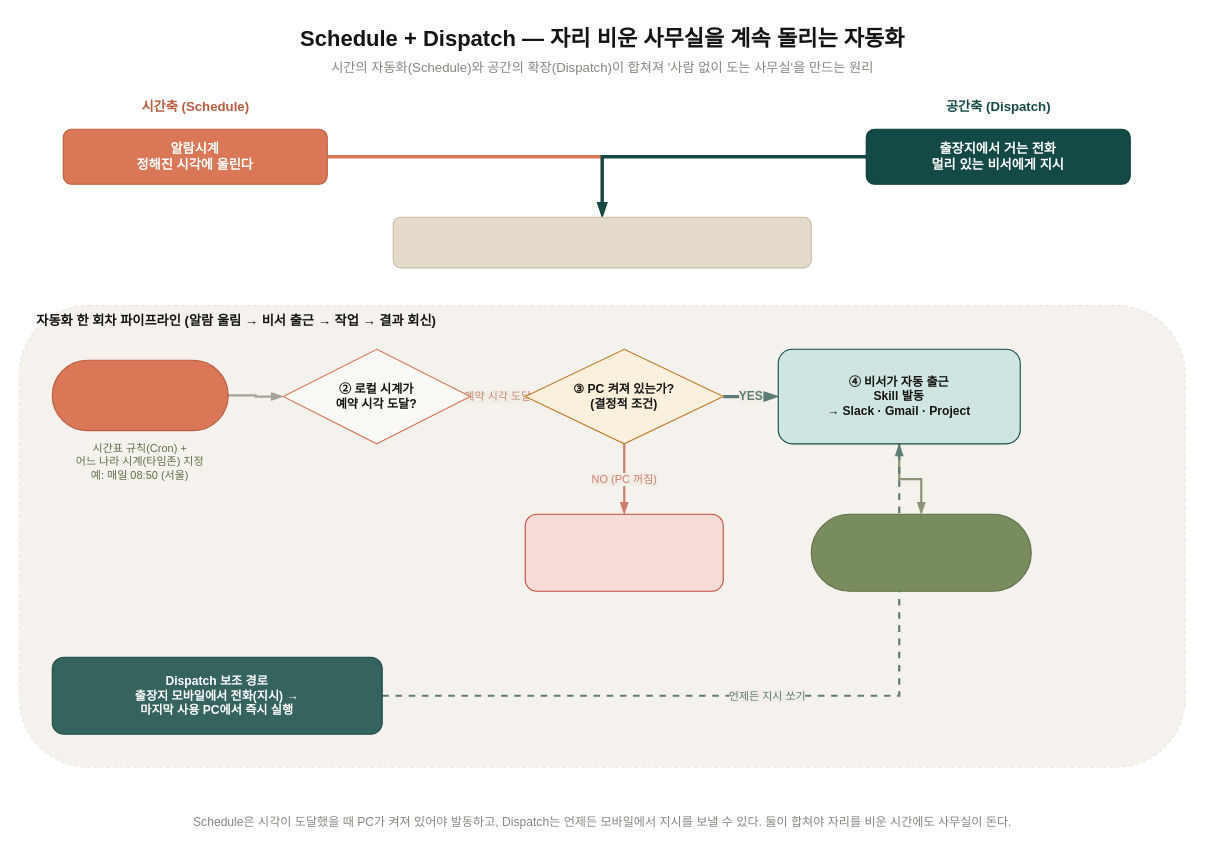
Some shapes in this 1205 by 862 pixel diagram are drawn without their labels. Here are the shapes that lost their labels. From the top down, the centre of each, then its label:
At pixel 601 242: "결합 = '내가 없어도 사무실이 계속 돈다'".
At pixel 139 395: "① 예약 등록 (알람 맞추기)".
At pixel 623 552: "✗ 회차 건너뜀 자동 보충 없음 다음 알람까지 대기".
At pixel 920 552: "⑤ 결과 회신 모바일 알림 · 메일 · Slack".
